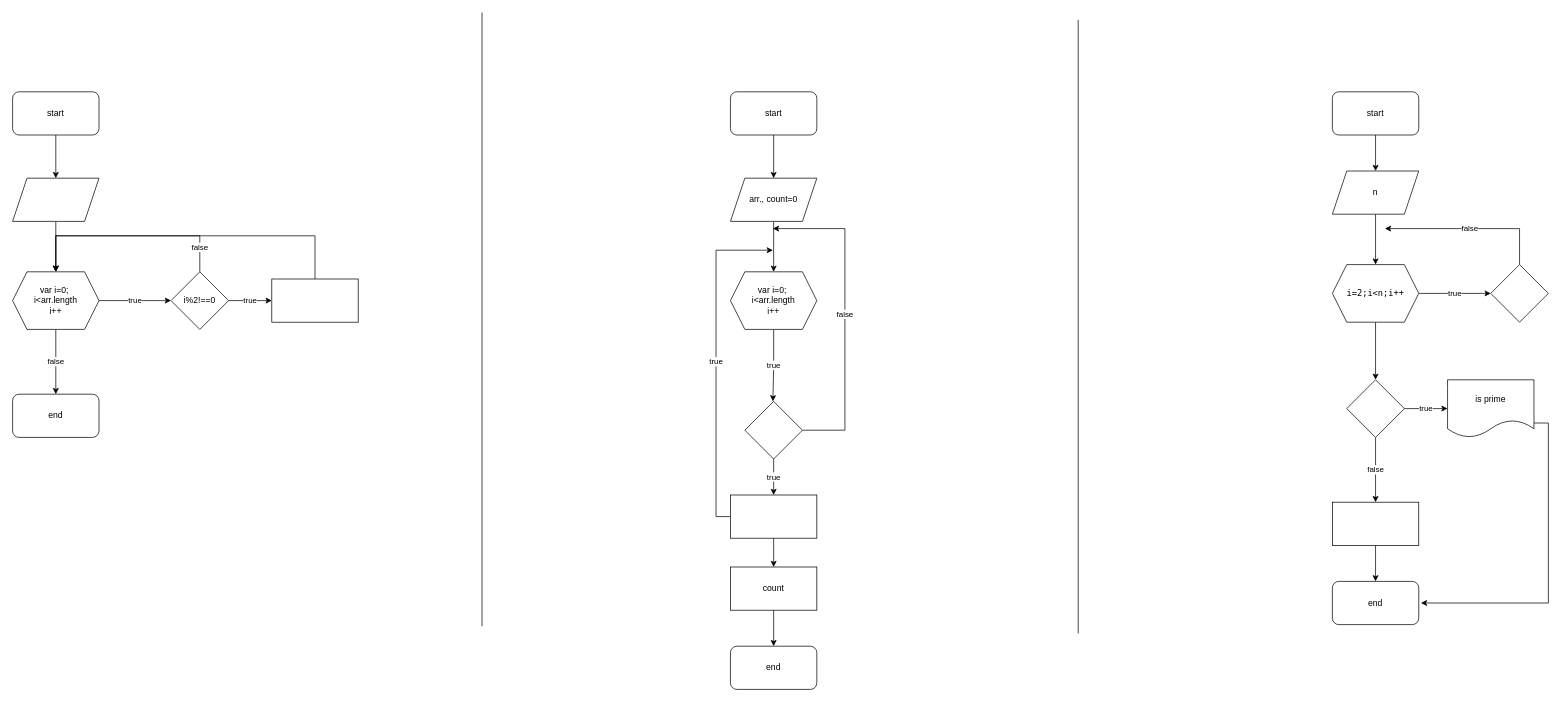
Some shapes in this 1567 by 702 pixel diagram are drawn without their labels. The shapes that lost their labels are listed below. From the top down, each one's centre as x and y in pixels, then its label:
At (x=55, y=199): "arr., sum=0".
At (x=314, y=300): "sum+=i".
At (x=1519, y=293): "n%i!=0".
At (x=1375, y=408): "n==i".
At (x=773, y=430): "i%2==0".
At (x=773, y=516): "count++".
At (x=1375, y=523): "is not prime".
